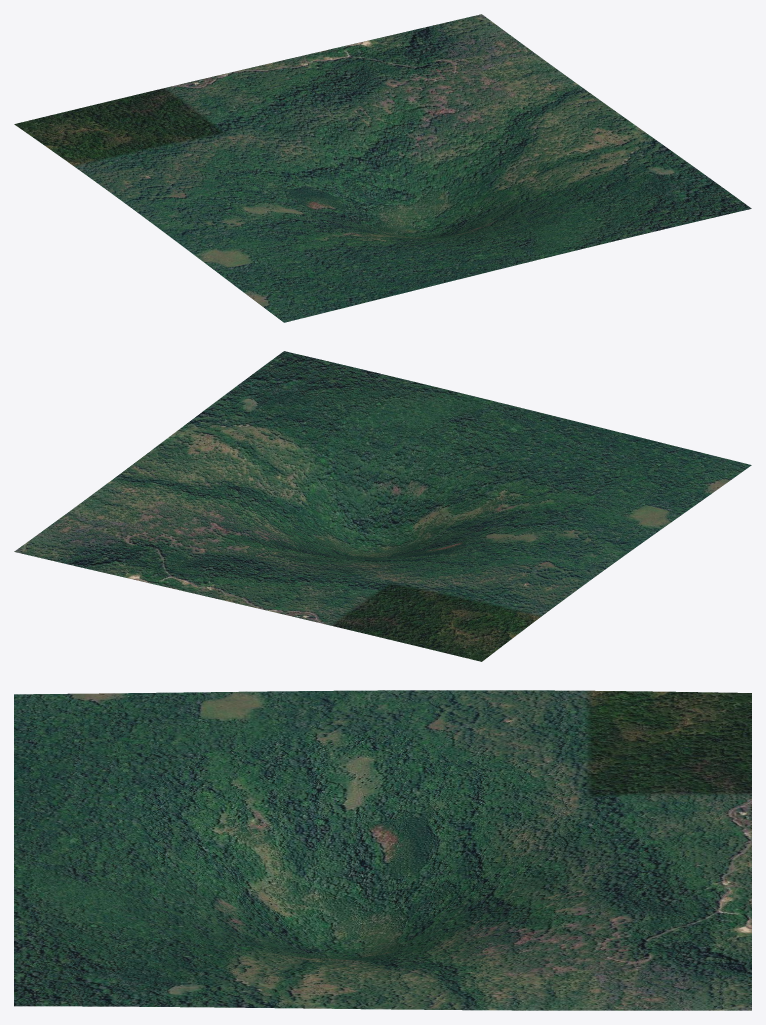
File: terrain_real_T_W01_S04.glb
3 renders of one model, top to bottom at view 1: azimuth 30°, elevation 25°; view 2: azimuth 150°, elevation 25°; view 3: azimuth 270°, elevation 25°, orthographic. The views are drawn at different scales.
Parts seen in each view (by area): view 1: Terrain_Real_DEM_T_W01_S04; view 2: Terrain_Real_DEM_T_W01_S04; view 3: Terrain_Real_DEM_T_W01_S04.
Part boxes in pixels (box(x1,y1,x2,y2)): Terrain_Real_DEM_T_W01_S04: box(14, 14, 751, 322); Terrain_Real_DEM_T_W01_S04: box(14, 351, 751, 661); Terrain_Real_DEM_T_W01_S04: box(14, 690, 751, 1010).
Size of the model in its own units: 2000 by 245 by 2000.
Materials: 1 (1 with a texture image).
